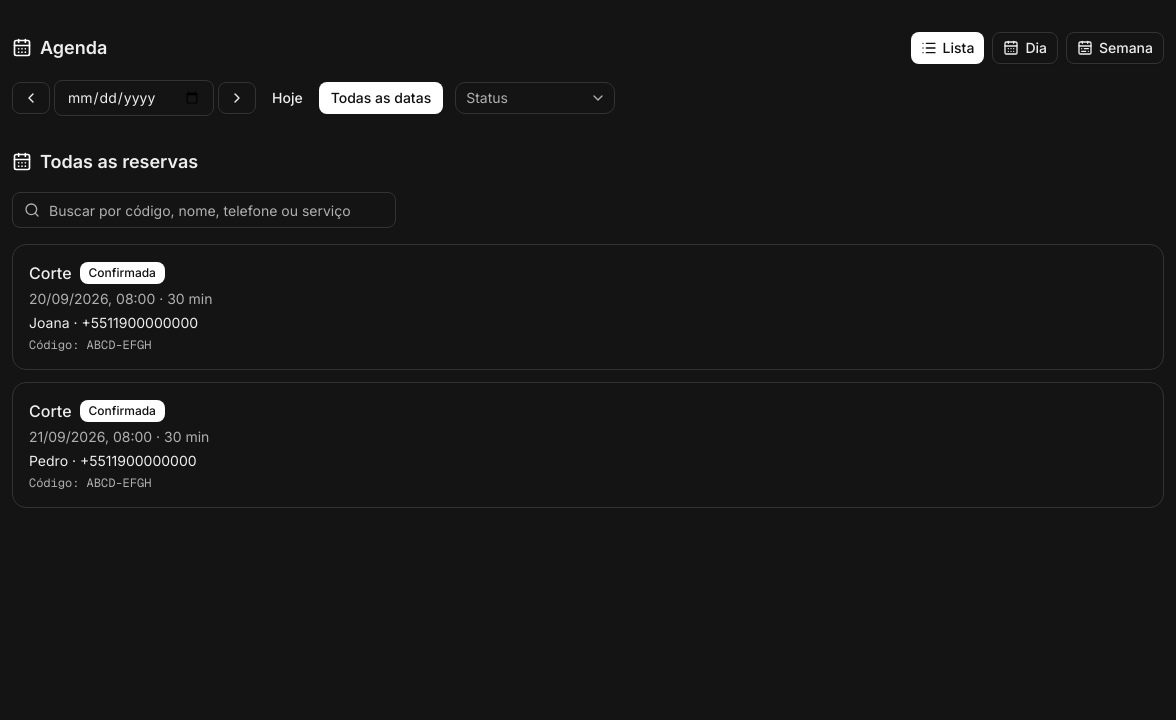
Test: AgendaView list view › clears the date filter back to all reservations
Type "2026-09-20" into the date field named "Data" at (134, 98), box top-left (54, 80), bottom-right (214, 116)
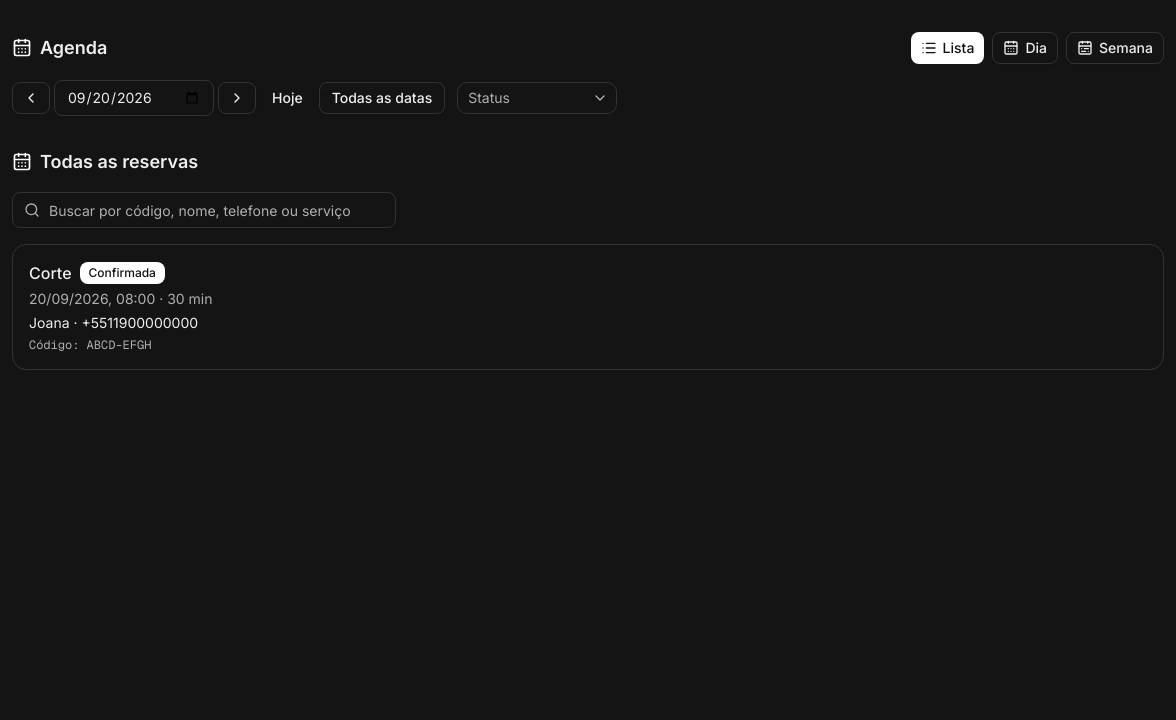
Result: the text "Pedro" is gone
Click the button "Todas as datas" at (382, 98), box top-left (319, 82), bottom-right (445, 114)
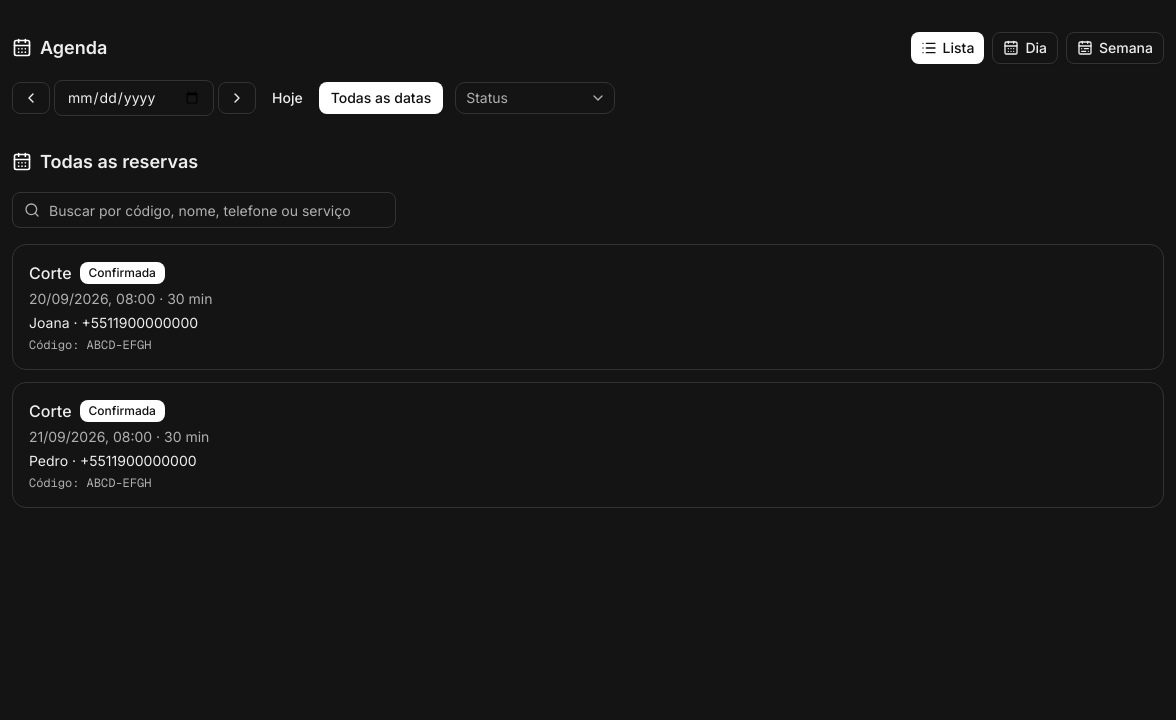
Expected: the text "Joana · +5511900000000" is shown, top-left (29, 313), bottom-right (212, 333)
Result: the text "Pedro · +5511900000000" is shown at top-left (29, 451), bottom-right (209, 471)
